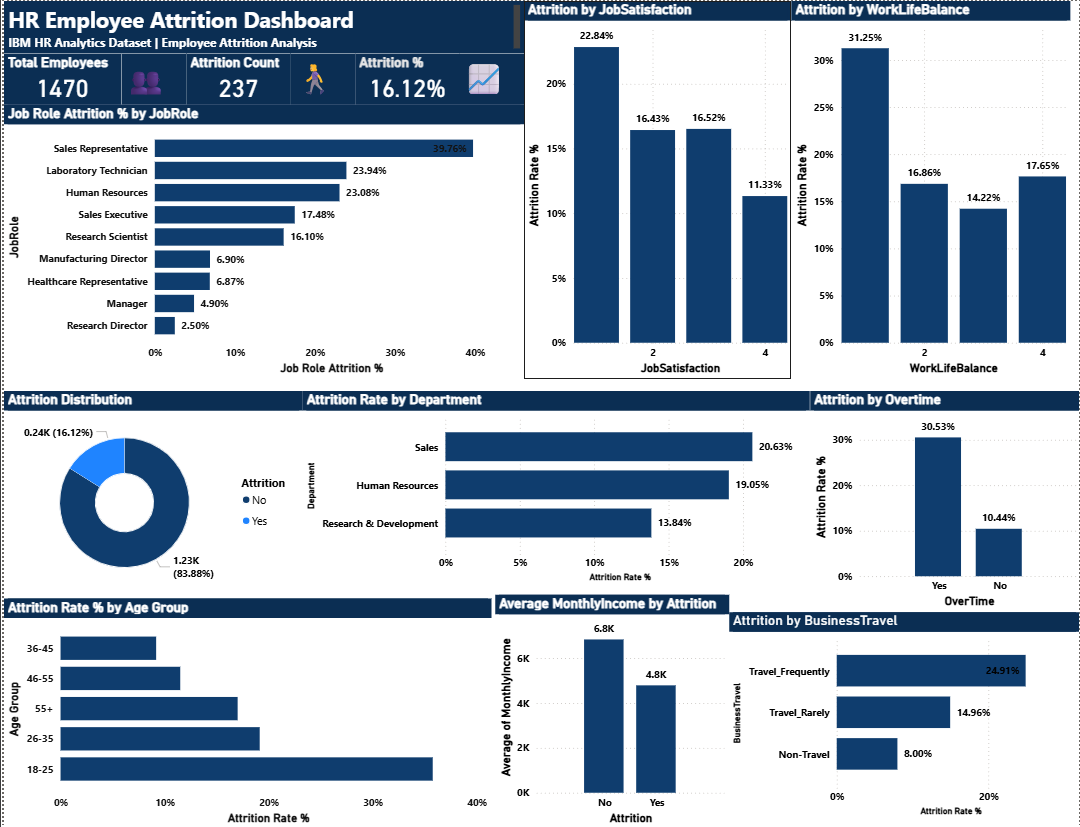

This screenshot's page, from the dashboard's own definition file:
{"tool":"powerbi","page":{"name":"Page 1","canvas":[1324,1018],"ordinal":0},"visuals":[{"type":"card","title":"Total Employees","fields":{"Values":["Count(hr_database.EmployeeNumber)"]},"box":[0,64,144,64],"z":0},{"type":"card","title":"Attrition Count","fields":{"Values":["hr_database.Attrition Count"]},"box":[224,64,128,64],"z":1000},{"type":"card","title":"Attrition %","fields":{"Values":["hr_database.Attrition Rate %"]},"box":[432,64,128,64],"z":2000},{"type":"donutChart","title":"Attrition Distribution","fields":{"Category":["hr_database.Attrition"],"Y":["Count(hr_database.EmployeeNumber)"]},"box":[0,480,368,256],"z":3000},{"type":"clusteredBarChart","title":"Attrition Rate by Department","fields":{"Category":["hr_database.Department"],"Y":["hr_database.Attrition Rate %"]},"box":[368,480,624,240],"z":4000},{"type":"clusteredColumnChart","title":"Attrition by Overtime","fields":{"Category":["hr_database.OverTime"],"Y":["hr_database.Attrition Rate %"]},"box":[992,480,336,272],"z":5000},{"type":"clusteredColumnChart","title":"Attrition by JobSatisfaction","fields":{"Category":["hr_database.JobSatisfaction"],"Y":["hr_database.Attrition Rate %"]},"box":[640,0,329.2,464.6],"z":6000},{"type":"clusteredBarChart","title":"Attrition by BusinessTravel","fields":{"Category":["hr_database.BusinessTravel"],"Y":["hr_database.Attrition Rate %"]},"box":[892.3,752.3,432.3,255.4],"z":7000},{"type":"clusteredColumnChart","title":"Attrition by WorkLifeBalance","fields":{"Category":["hr_database.WorkLifeBalance"],"Y":["hr_database.Attrition Rate %"]},"box":[969.2,0,343.1,464.6],"z":8000},{"type":"clusteredColumnChart","title":"Average MonthlyIncome by Attrition","fields":{"Category":["hr_database.Attrition"],"Y":["Avg(hr_database.MonthlyIncome)"]},"box":[604.6,730.8,287.7,287.7],"z":9000},{"type":"textbox","box":[0,0,640,64],"z":10000},{"type":"textbox","box":[144.6,64.6,80,63.1],"z":11000},{"type":"textbox","box":[352,64,80,64],"z":12000},{"type":"textbox","box":[560,64,80,64],"z":13000},{"type":"clusteredBarChart","fields":{"Category":["hr_database.JobRole"],"Y":["hr_database.Job Role Attrition %"]},"box":[0,127.7,640,336.9],"z":14000},{"type":"clusteredBarChart","fields":{"Category":["hr_database.Age Group"],"Y":["hr_database.Attrition Rate %"]},"box":[0,735.4,600,283.1],"z":15000}]}

Visuals, with their boxes in screenshot pixels (x1, y1, x2, y2), scaled from the page's 1324x1018 canvas onto the 1080x827 screenshot:
"Total Employees" card: select_region(0, 52, 117, 104)
"Attrition Count" card: select_region(183, 52, 287, 104)
"Attrition %" card: select_region(352, 52, 457, 104)
"Attrition Distribution" donutChart: select_region(0, 390, 300, 598)
"Attrition Rate by Department" clusteredBarChart: select_region(300, 390, 809, 585)
"Attrition by Overtime" clusteredColumnChart: select_region(809, 390, 1079, 611)
"Attrition by JobSatisfaction" clusteredColumnChart: select_region(522, 0, 791, 377)
"Attrition by BusinessTravel" clusteredBarChart: select_region(728, 611, 1079, 819)
"Attrition by WorkLifeBalance" clusteredColumnChart: select_region(791, 0, 1070, 377)
"Average MonthlyIncome by Attrition" clusteredColumnChart: select_region(493, 594, 728, 826)
textbox: select_region(0, 0, 522, 52)
textbox: select_region(118, 52, 183, 104)
textbox: select_region(287, 52, 352, 104)
textbox: select_region(457, 52, 522, 104)
clusteredBarChart - hr_database.JobRole x hr_database.Job Role Attrition %: select_region(0, 104, 522, 377)
clusteredBarChart - hr_database.Age Group x hr_database.Attrition Rate %: select_region(0, 597, 489, 826)
